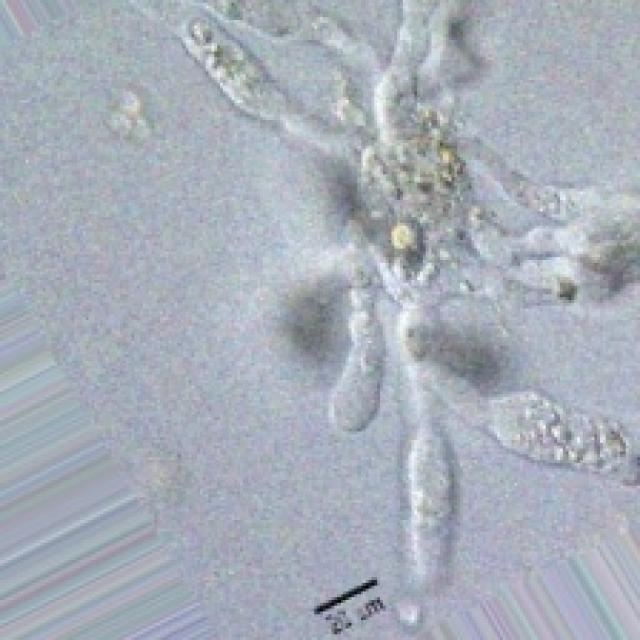Amoeba: (157, 15, 640, 640)
